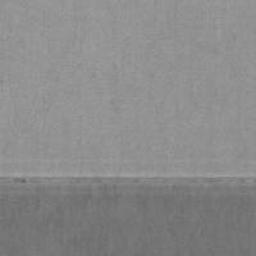Welding line: (0, 174, 256, 182)
